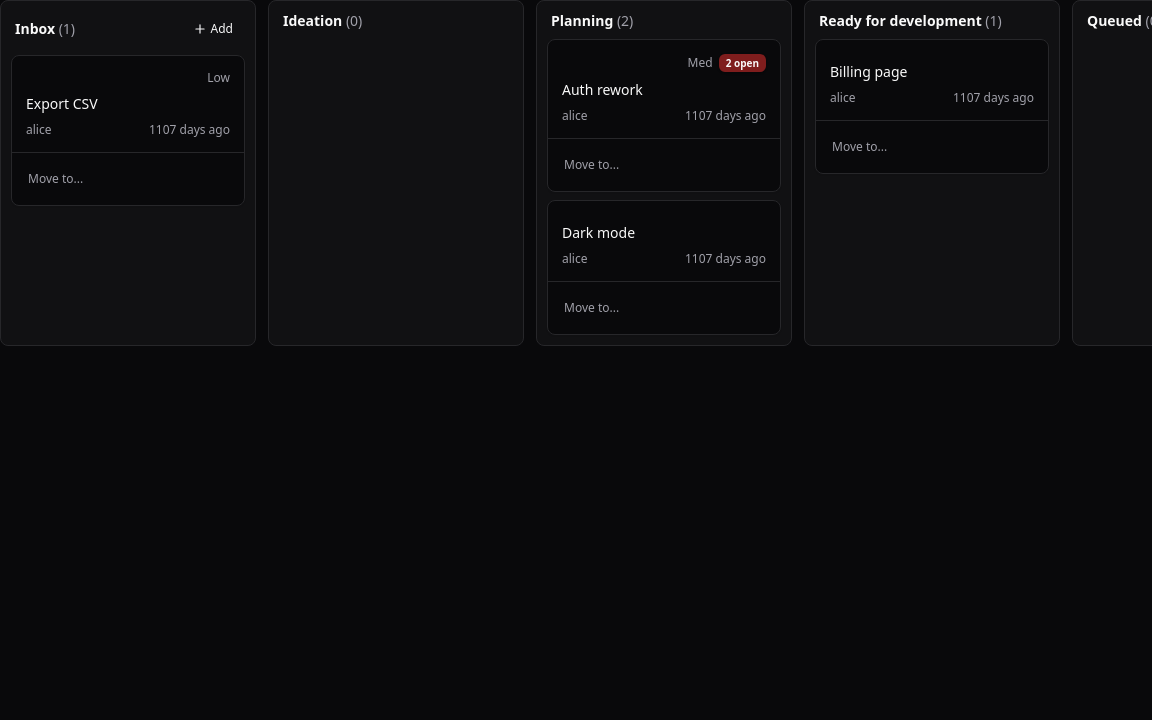
it: KanbanBoard keyboard menu › confirms cancelling from the menu and lets the user back out
Click the button "Move to..." below "Inbox" at (128, 179), box x1=20 y1=157 x2=236 y2=201
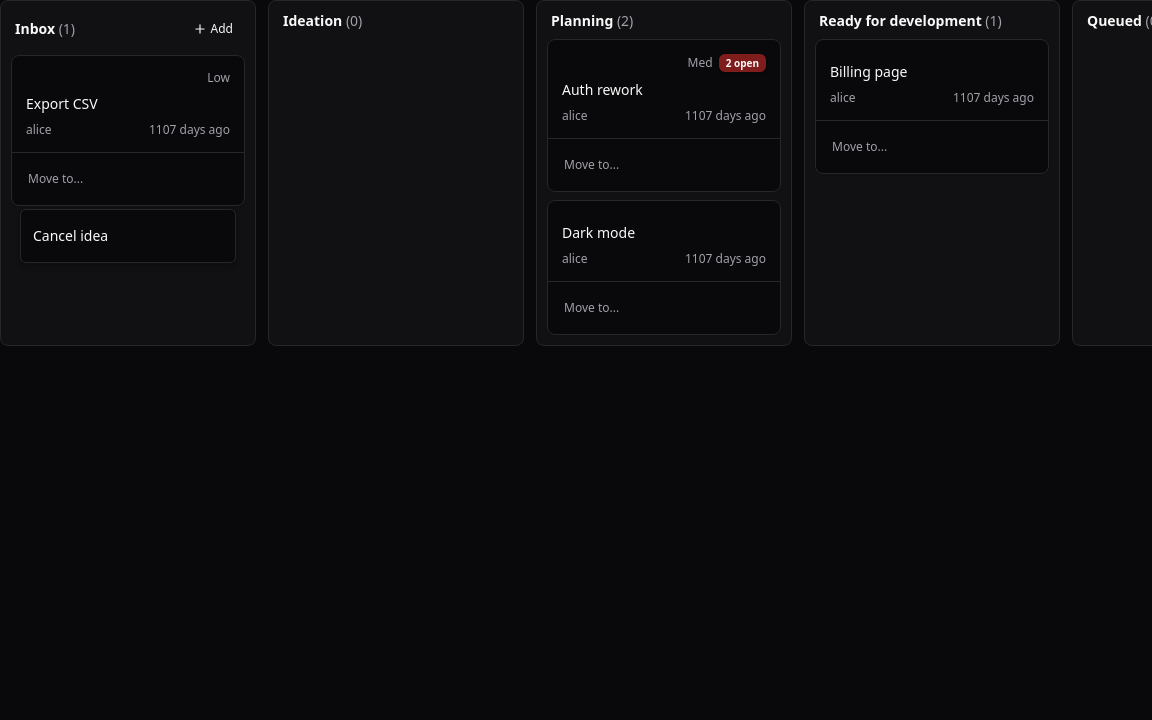
Click the menu item "Cancel idea" at (128, 236), box x1=25 y1=214 x2=231 y2=258
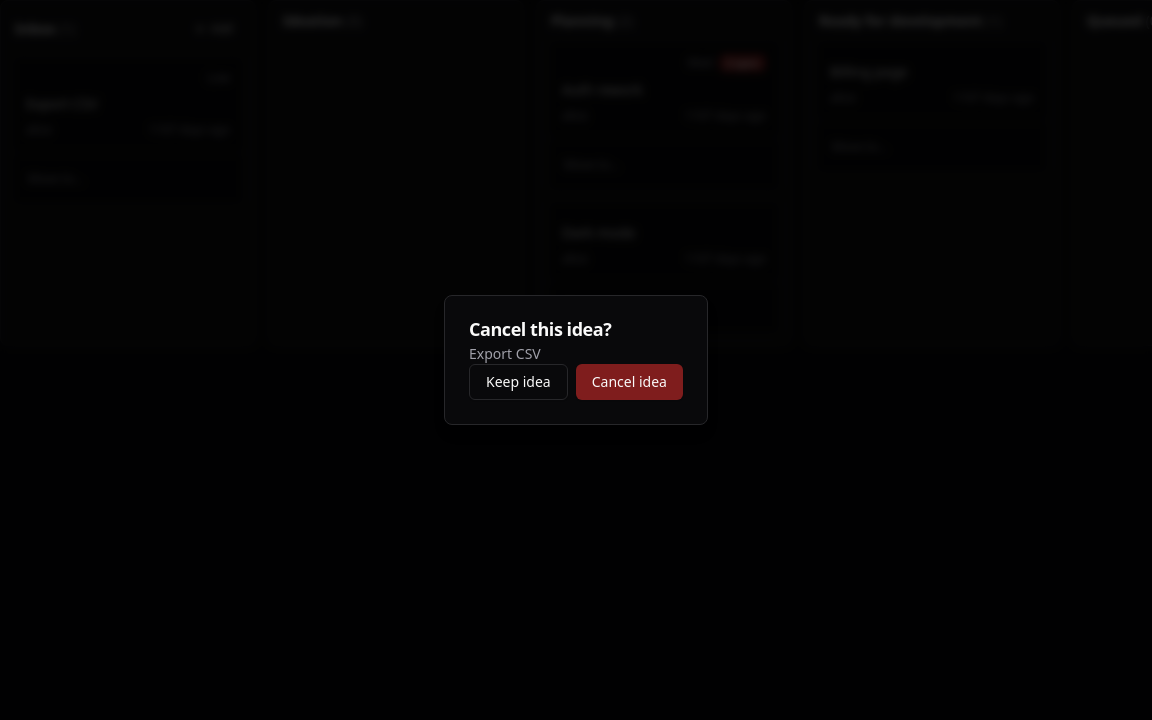
Expected: the dialog is shown, x1=444 y1=295 x2=708 y2=425
Click the button "Keep idea" at (518, 382), box x1=469 y1=364 x2=568 y2=400
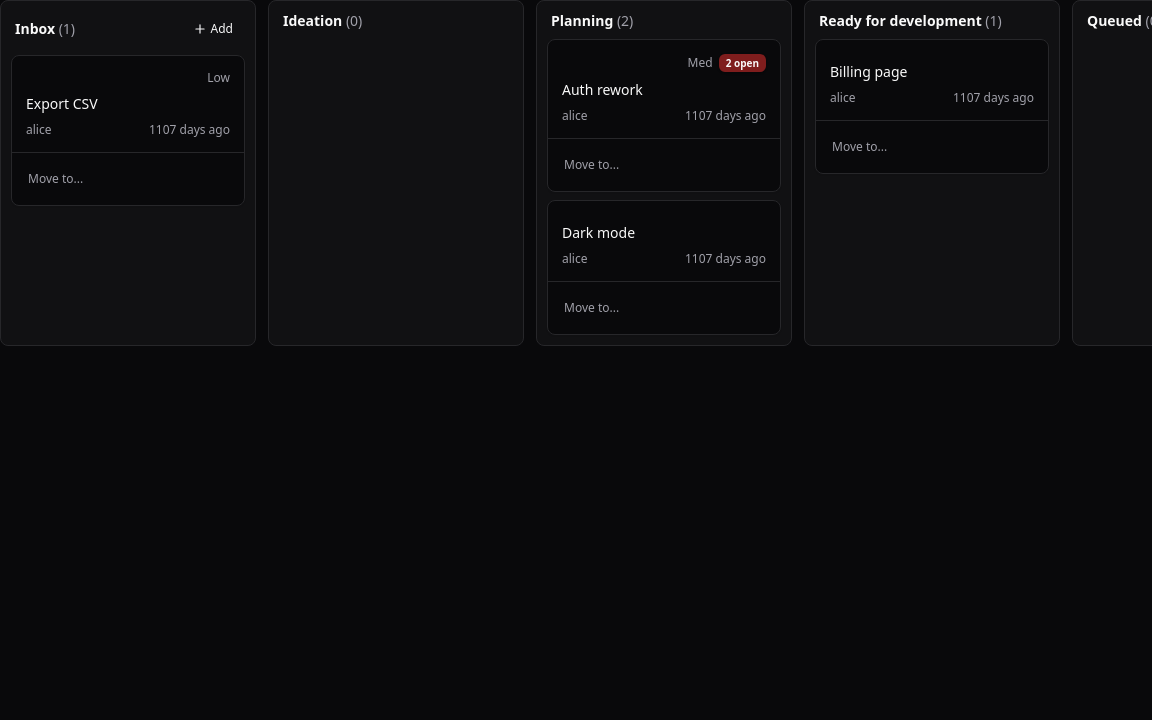
Expected: the dialog is gone
